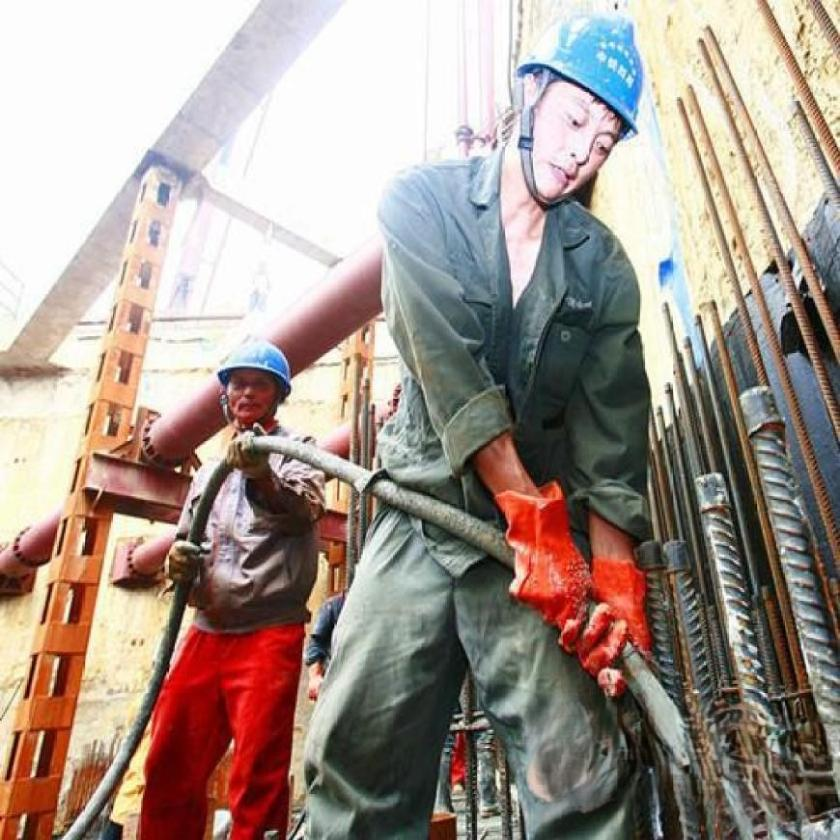Con_casco: (513, 9, 647, 218), (212, 336, 297, 436)
